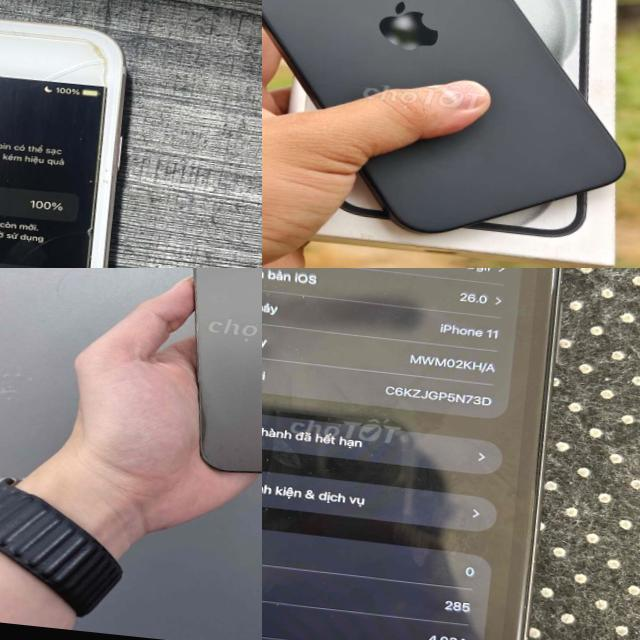gen_11: (262, 268, 581, 640)
gen_12_13: (193, 268, 262, 471)
gen_15: (262, 0, 640, 262)
gen_7_8: (0, 0, 145, 268)
